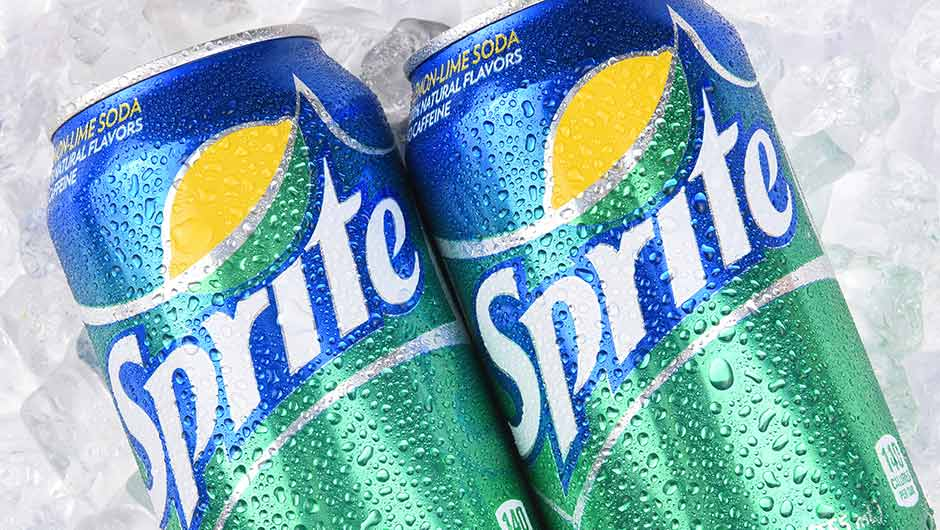Copy of Sprite: (460, 59, 877, 522)
Sprite: (34, 73, 449, 518)
